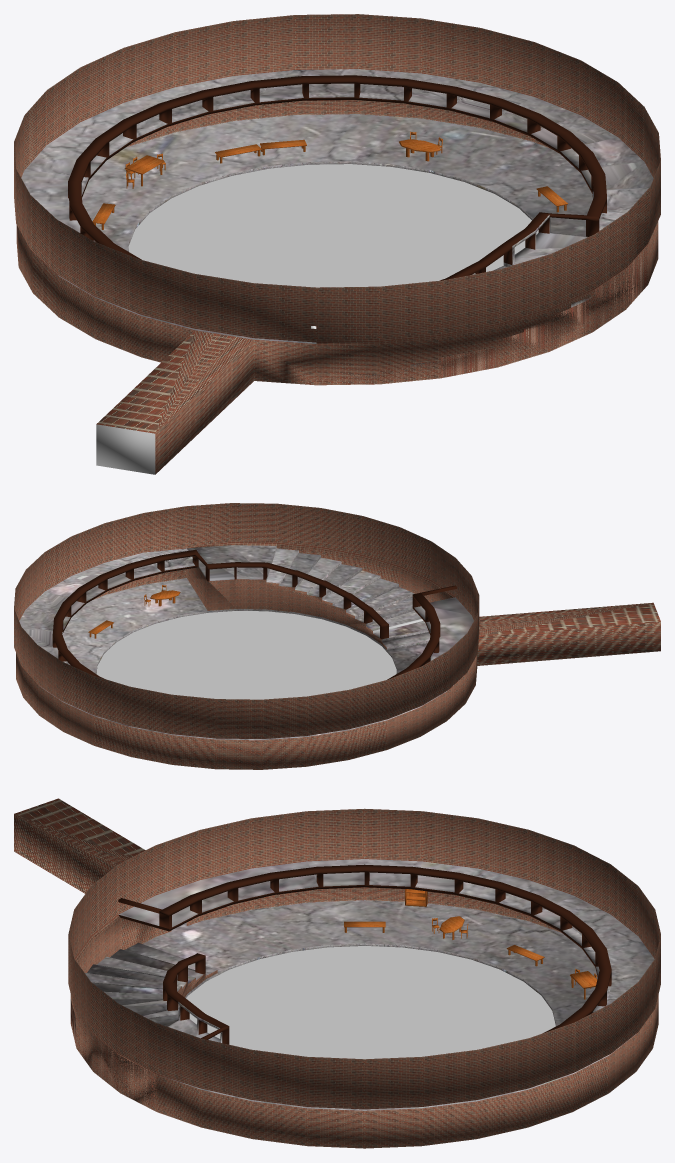
Rendered from DanceRoom.fbx.
The picture shows the model from 3 angles, top to bottom: view 1: azimuth 30°, elevation 25°; view 2: azimuth 150°, elevation 25°; view 3: azimuth 270°, elevation 25°; orthographic projection. The views are drawn at different scales.
Parts seen in each view (by area): view 1: DanceRoom, Furniture; view 2: DanceRoom, Furniture; view 3: DanceRoom, Furniture.
Boxes of the visible parts, left/top/right/bottom form: DanceRoom: left=14, top=14, right=660, bottom=474; Furniture: left=92, top=131, right=567, bottom=229; DanceRoom: left=14, top=503, right=660, bottom=769; Furniture: left=88, top=585, right=180, bottom=638; DanceRoom: left=14, top=798, right=660, bottom=1148; Furniture: left=344, top=889, right=597, bottom=999.
Bounding box in the file's own units: 52.56 × 7.4 × 46.74.
